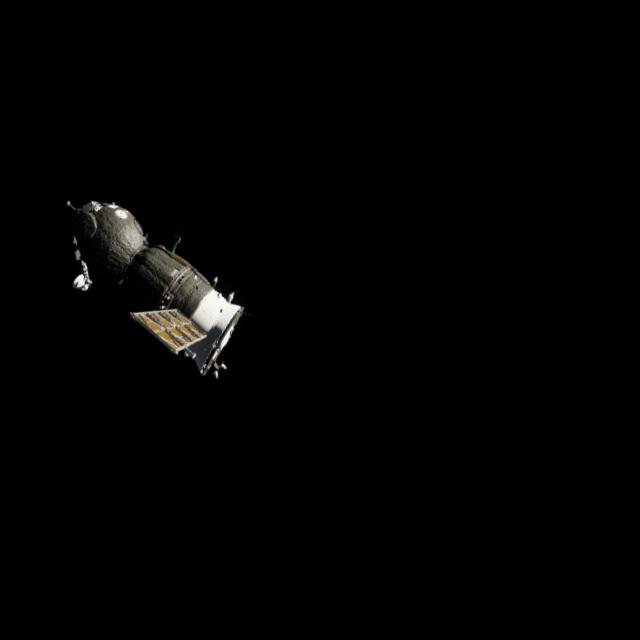Satellites revolving around earth: (37, 190, 263, 387)
